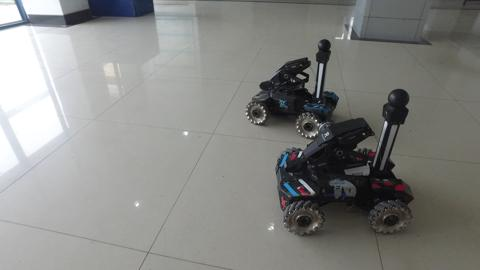chariot: (273, 87, 424, 242), (239, 36, 350, 144)
